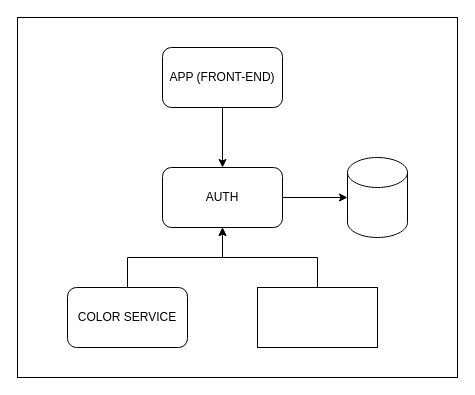
Some shapes in this 475 by 395 pixel diagram are drawn without their labels. The centre of each missing label's shape, as x and y in pixels:
AUTH DB: point 377,197
PRIME GENERATOR SERVIVE: point 317,317
